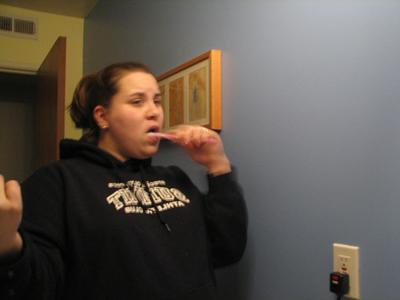person: (1, 63, 250, 300)
